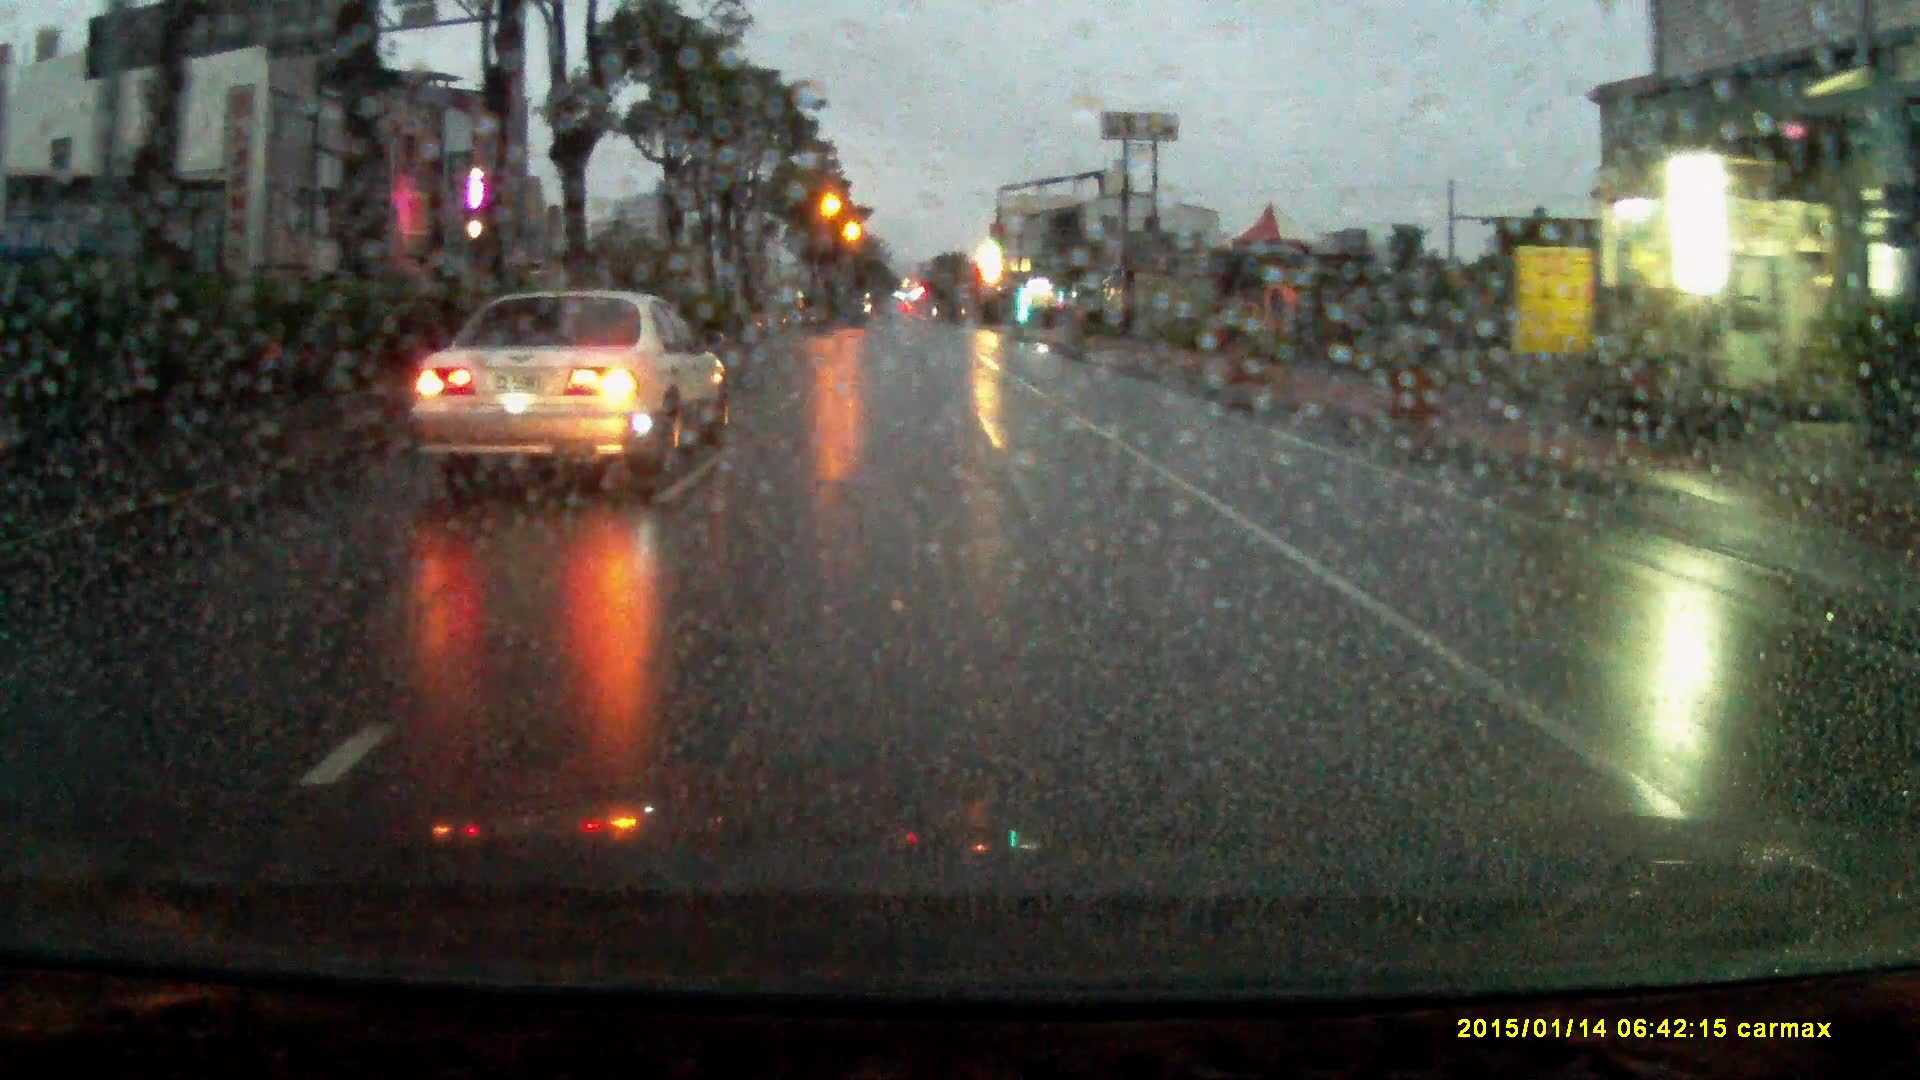vehicle: (410, 289, 740, 501)
